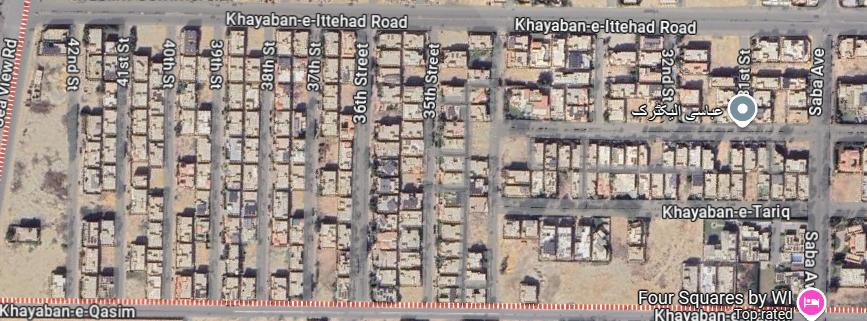Buildings: (498, 217, 809, 308), (501, 141, 812, 205), (0, 25, 70, 300), (604, 36, 814, 123), (431, 32, 493, 305), (371, 31, 429, 302), (267, 31, 313, 303), (122, 25, 167, 302), (172, 27, 215, 299), (220, 27, 262, 302), (313, 30, 355, 304), (79, 26, 119, 302), (504, 34, 593, 121)
